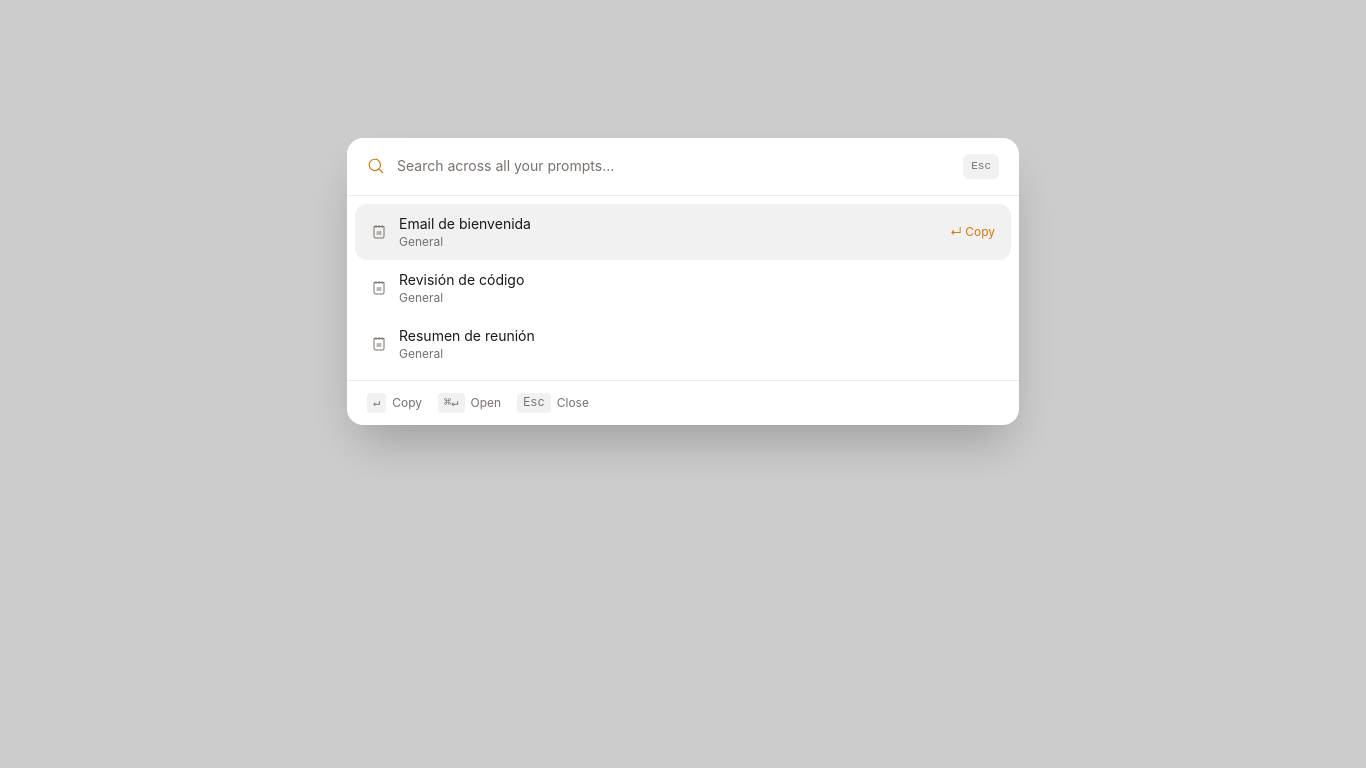
Test: SearchSpotlight › muestra 'No prompts found' cuando no hay resultados
Expected: the text "No prompts found" is not shown
Type "xyzxyzxyz" into the field with placeholder "Search across all your prompts..." at (674, 166), box 397,156 -> 951,176
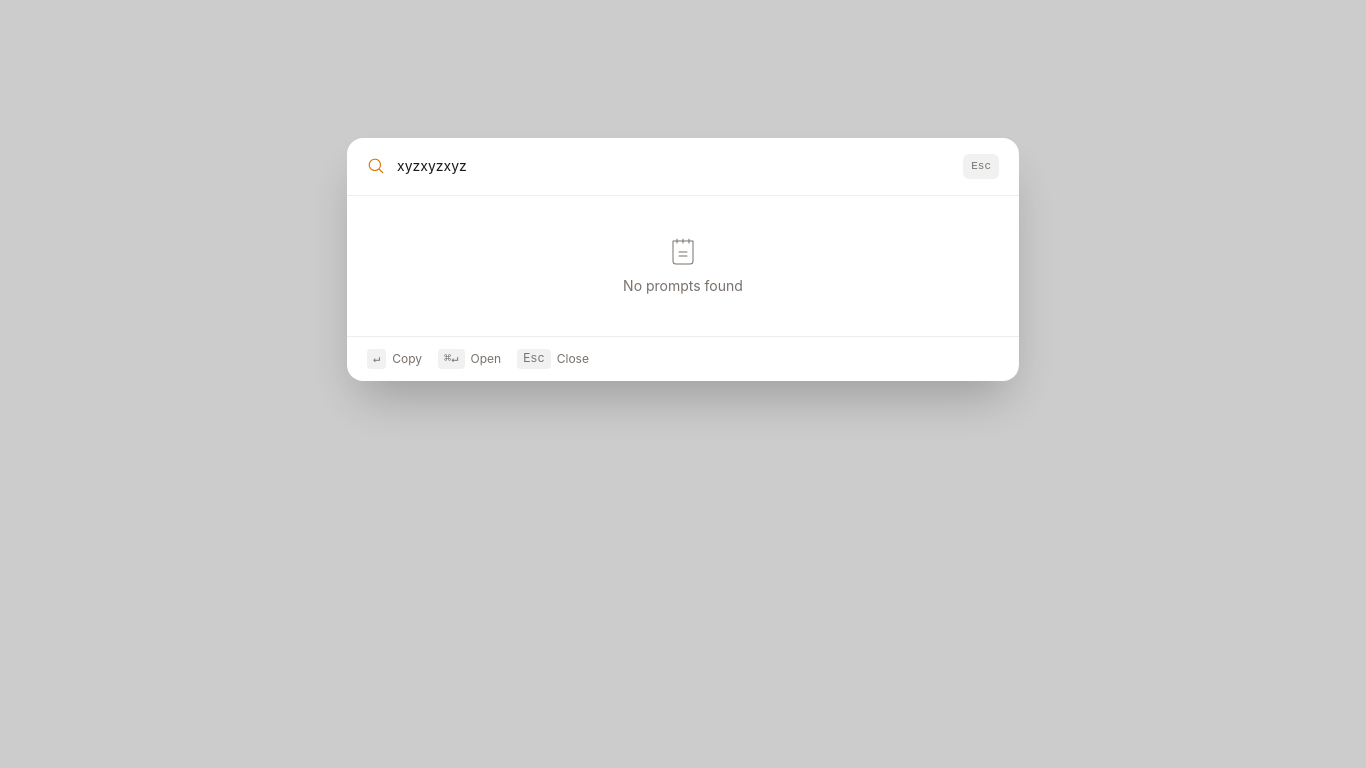
Result: the text "No prompts found" is shown at 623,276 -> 743,296
